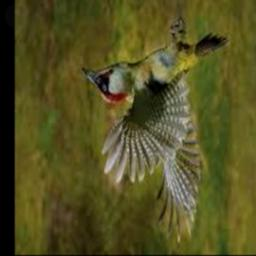Woodpecker: (81, 18, 229, 243)
